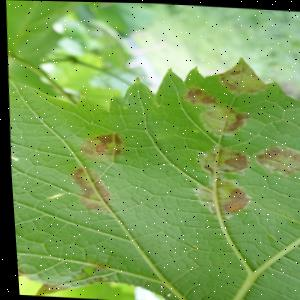Folha: (2, 45, 300, 300)
Fungo: (178, 86, 249, 138), (187, 176, 250, 218), (63, 166, 109, 211), (190, 144, 249, 177), (195, 104, 249, 139), (248, 143, 300, 178), (72, 130, 123, 164), (89, 130, 121, 155), (180, 87, 217, 106)
